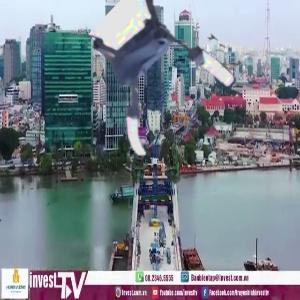drone: (77, 3, 226, 152)
